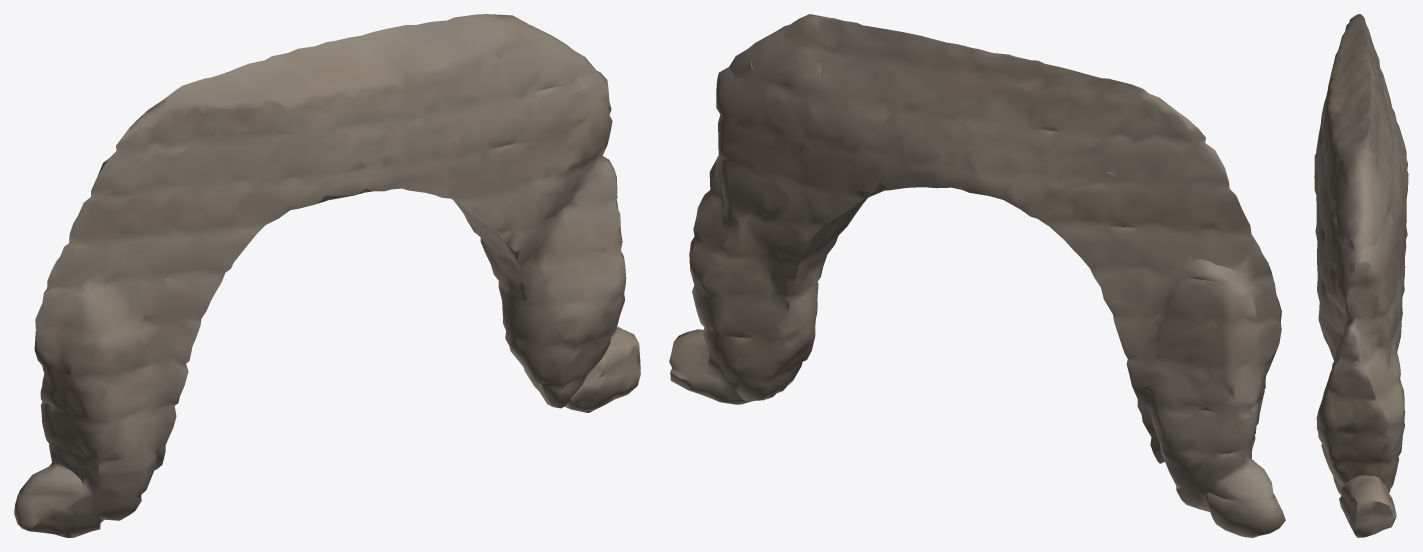
The model's file is rock_arch_cave.01f5c465.glb.
3 renders of one model, left to right at view 1: azimuth 30°, elevation 25°; view 2: azimuth 150°, elevation 25°; view 3: azimuth 270°, elevation 25°, orthographic. The views are drawn at different scales.
Parts seen in each view (by area): view 1: rock_arch_cave; view 2: rock_arch_cave; view 3: rock_arch_cave.
Part boxes in pixels (bbox=[...]): rock_arch_cave: bbox=[14, 14, 640, 537]; rock_arch_cave: bbox=[669, 14, 1285, 537]; rock_arch_cave: bbox=[1314, 14, 1408, 537].
Bounding box in the file's own units: 4.5 × 3.01 × 0.72.
